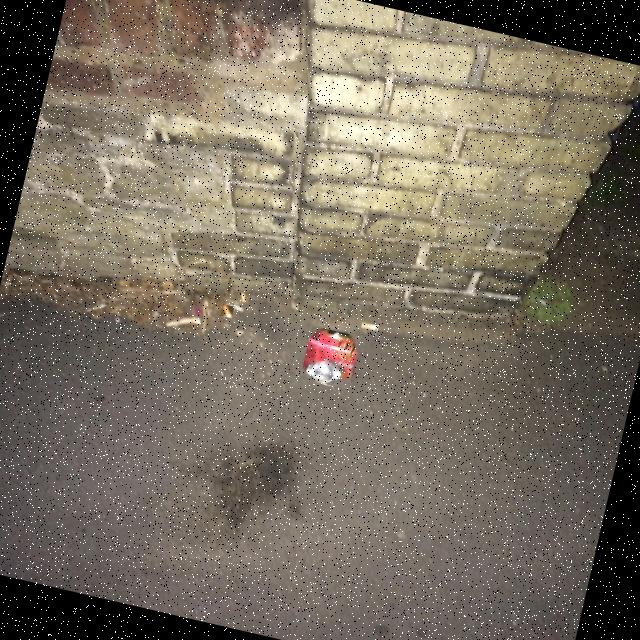Cigarette: (222, 305, 232, 317), (361, 324, 376, 330)
Drink can: (302, 329, 356, 383)
